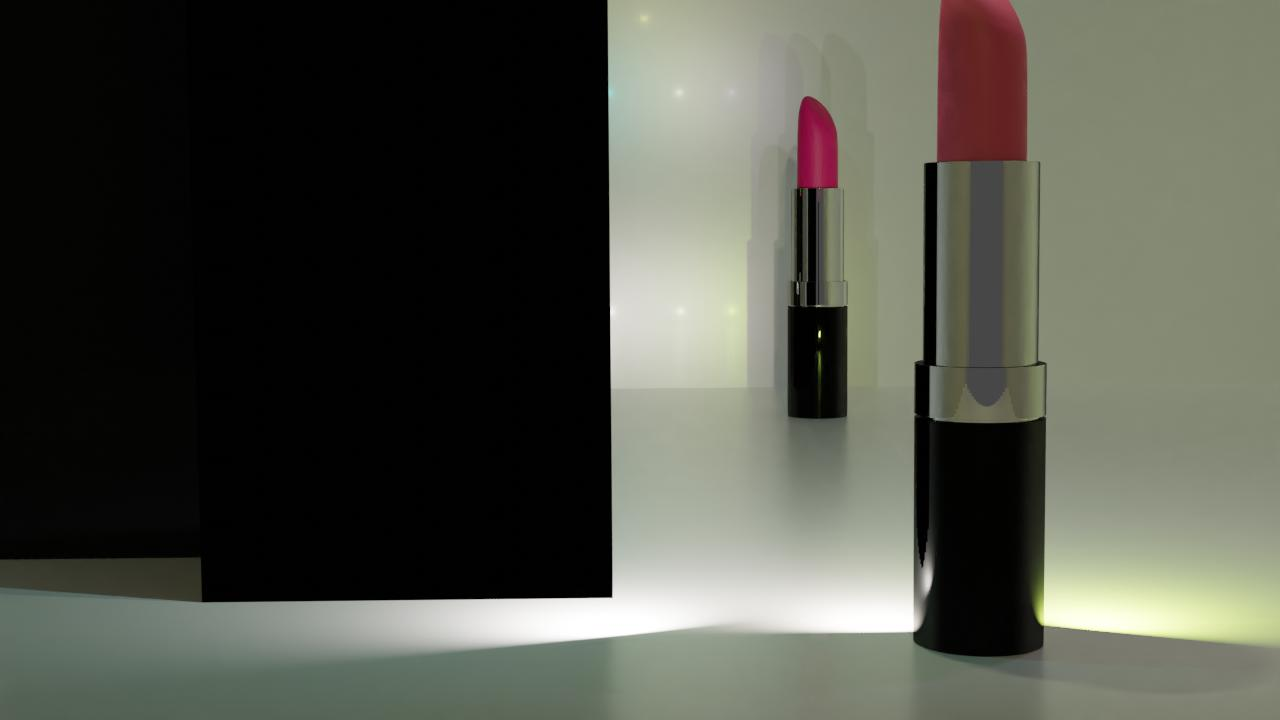CLASSIFIER_NAME: (910, 0, 1050, 667), (786, 92, 849, 419)
